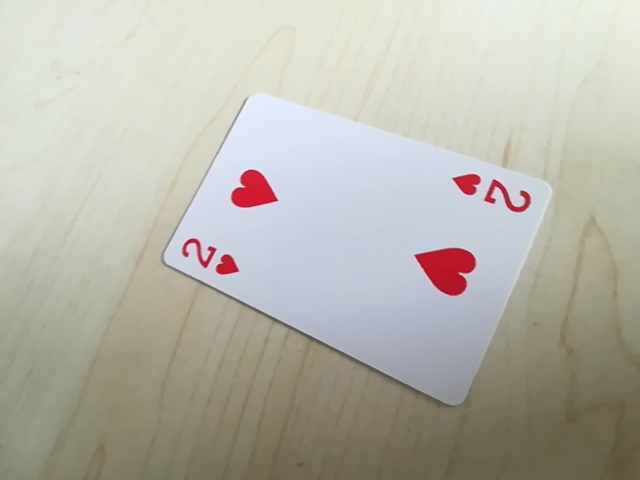hx 2: (449, 169, 539, 218), (174, 231, 245, 285)
